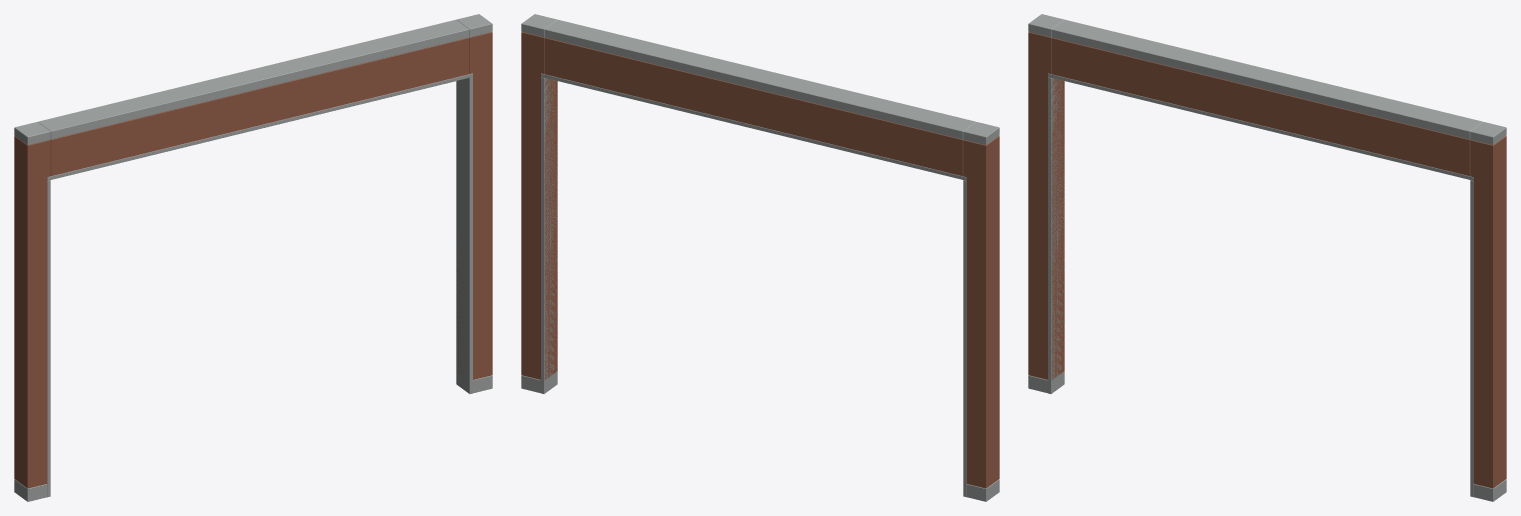
The model's file is b21_wall_storefront_opening_4m.glb.
3 renders of one model, left to right at view 1: azimuth 30°, elevation 25°; view 2: azimuth 150°, elevation 25°; view 3: azimuth 330°, elevation 25°, orthographic.
Visible parts, largest first — view 1: b21_wall_storefront_opening_4m; view 2: b21_wall_storefront_opening_4m; view 3: b21_wall_storefront_opening_4m.
Part boxes in pixels (box(x1,y1,x2,y2)): b21_wall_storefront_opening_4m: box(14, 14, 492, 501); b21_wall_storefront_opening_4m: box(521, 14, 999, 501); b21_wall_storefront_opening_4m: box(1028, 14, 1506, 501).
Size of the model in its own units: 4 by 3 by 0.204.
